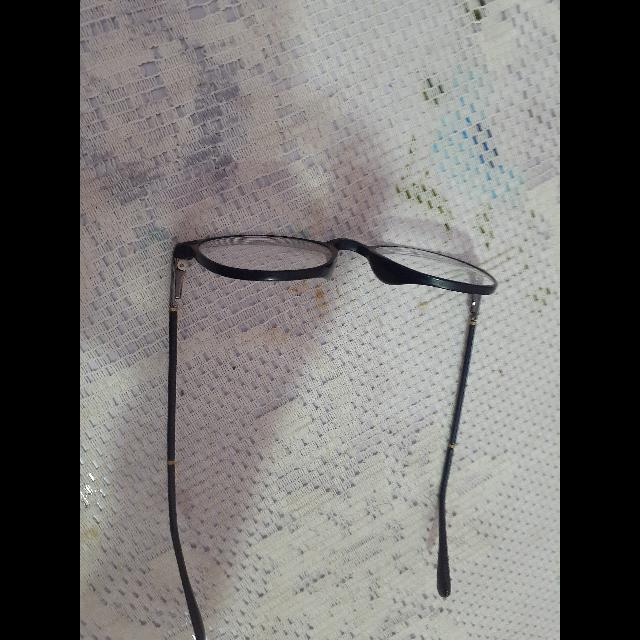glasses: (164, 231, 502, 640)
